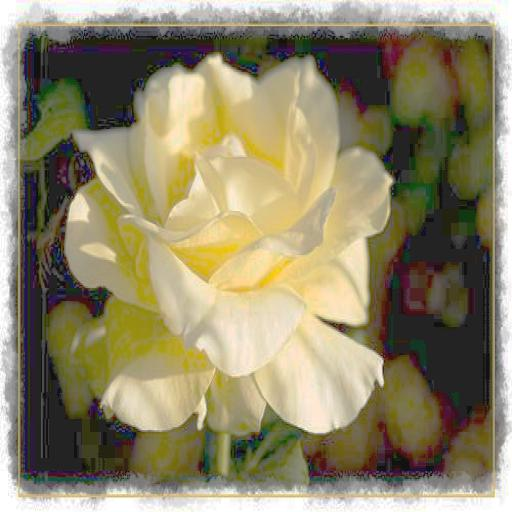rose: (68, 56, 389, 445)
